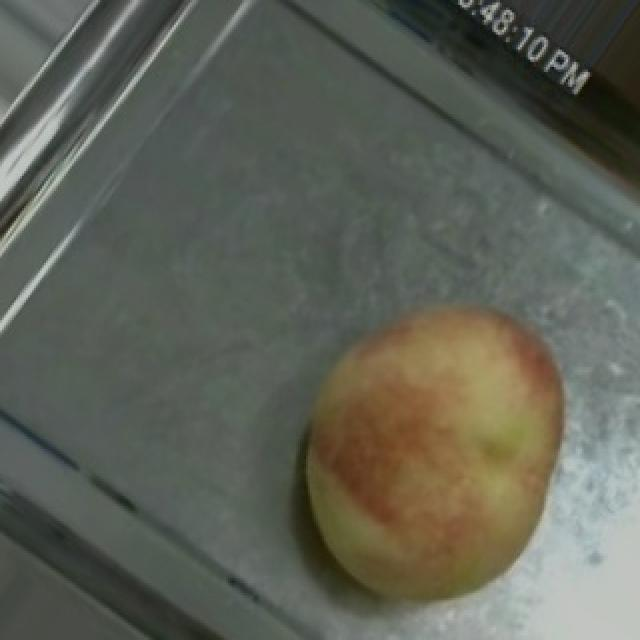Fruit: (248, 273, 562, 640)
